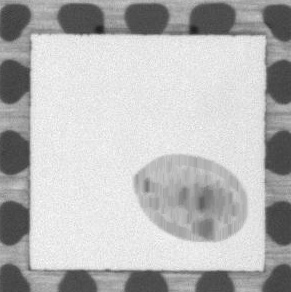DIE_INK: (131, 152, 248, 241)
